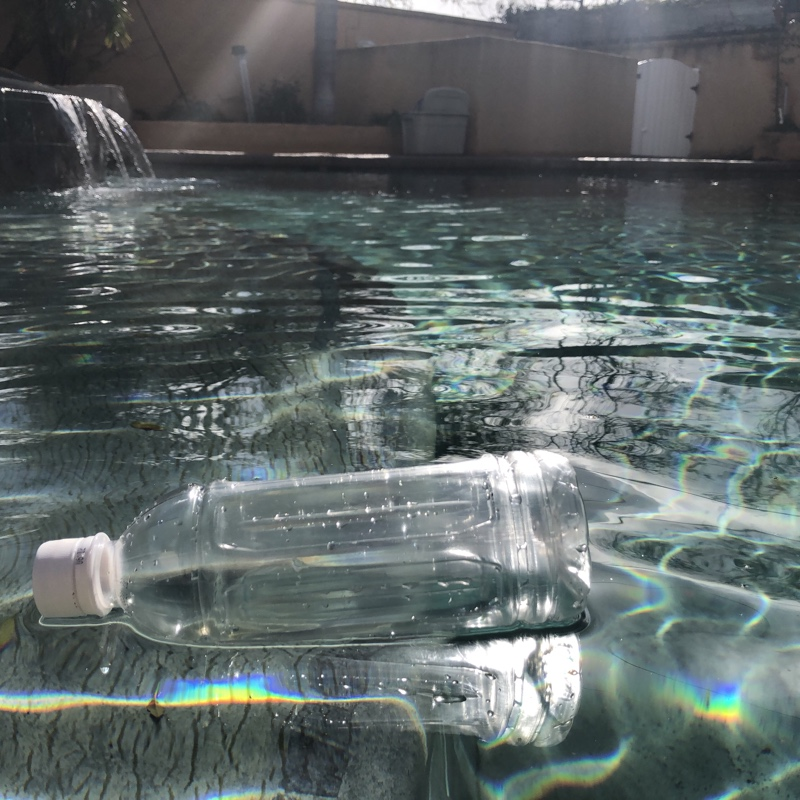Plastic Bottle: (26, 442, 598, 653)
